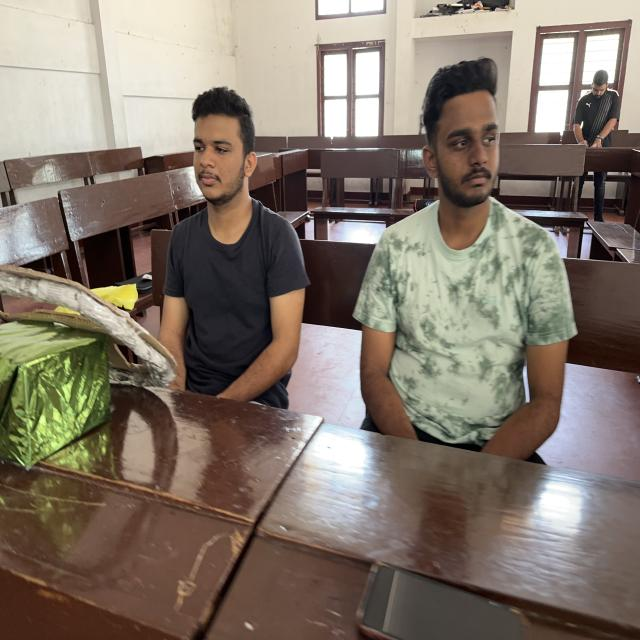no-seatbelt: (352, 204, 574, 485), (162, 206, 305, 438)
